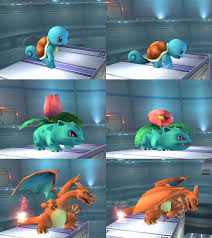charizard: (12, 169, 95, 231), (121, 177, 200, 222)
